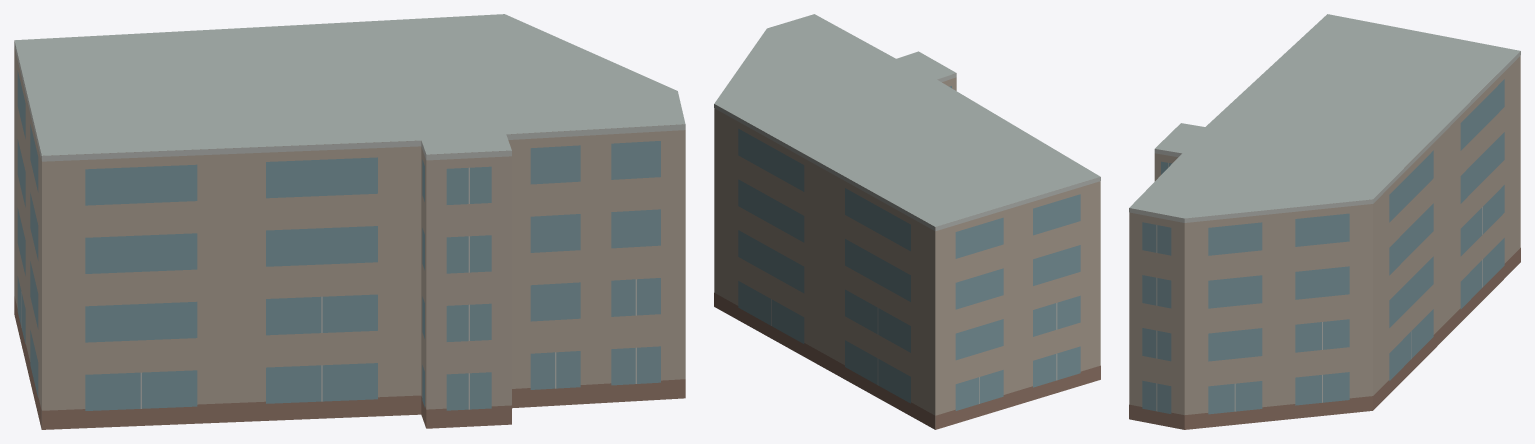
The model's file is survey-upis-32532386.glb.
3 renders of one model, left to right at view 1: azimuth 30°, elevation 25°; view 2: azimuth 150°, elevation 25°; view 3: azimuth 270°, elevation 25°, orthographic. The views are drawn at different scales.
Parts seen in each view (by area): view 1: survey-upis-32532386.tmp; view 2: survey-upis-32532386.tmp; view 3: survey-upis-32532386.tmp.
Boxes of the visible parts, bbox=[...] form: survey-upis-32532386.tmp: bbox=[14, 14, 685, 429]; survey-upis-32532386.tmp: bbox=[714, 14, 1100, 429]; survey-upis-32532386.tmp: bbox=[1129, 14, 1520, 429].
Bounding box in the file's own units: 23.77 × 11.45 × 19.24.
